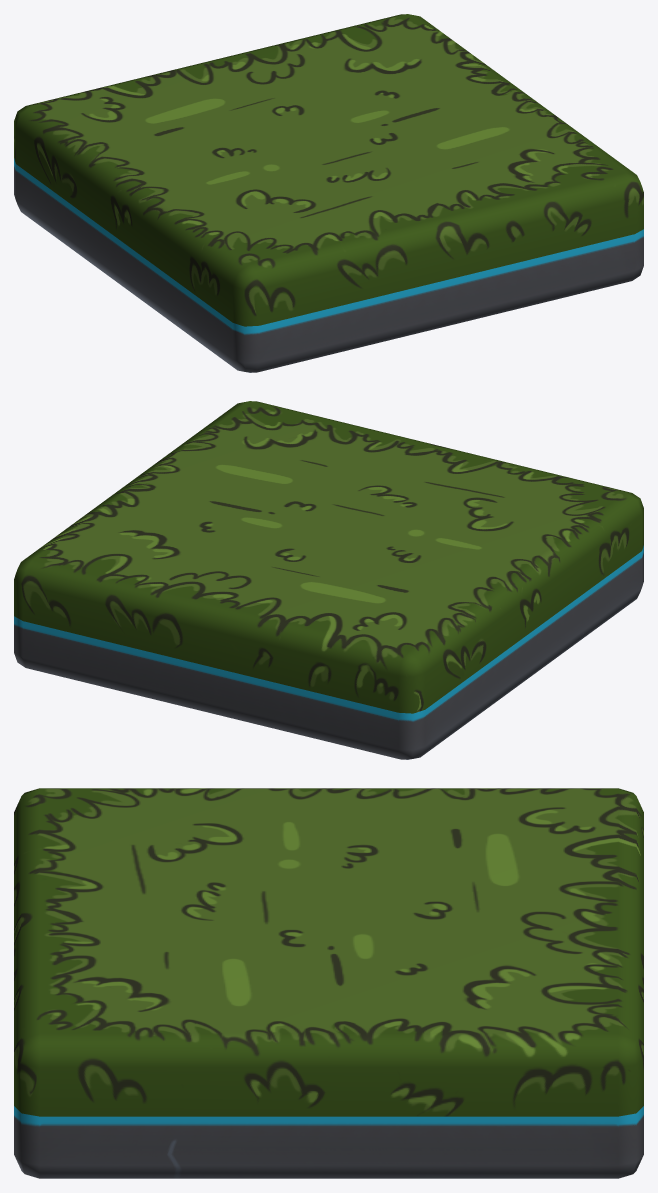
The model's file is Block_Grass.fbx.
3 views of the same model, one above another, from view 1: azimuth 30°, elevation 25°; view 2: azimuth 150°, elevation 25°; view 3: azimuth 270°, elevation 25° (orthographic). The views are drawn at different scales.
Visible parts, largest first — view 1: Grass; view 2: Grass; view 3: Grass.
Part boxes in pixels (x1=…): Grass: x1=14, y1=14, x2=643, y2=372; Grass: x1=14, y1=401, x2=643, y2=759; Grass: x1=14, y1=788, x2=643, y2=1178.
Bounding box in the file's own units: 1 × 0.2529 × 1.
